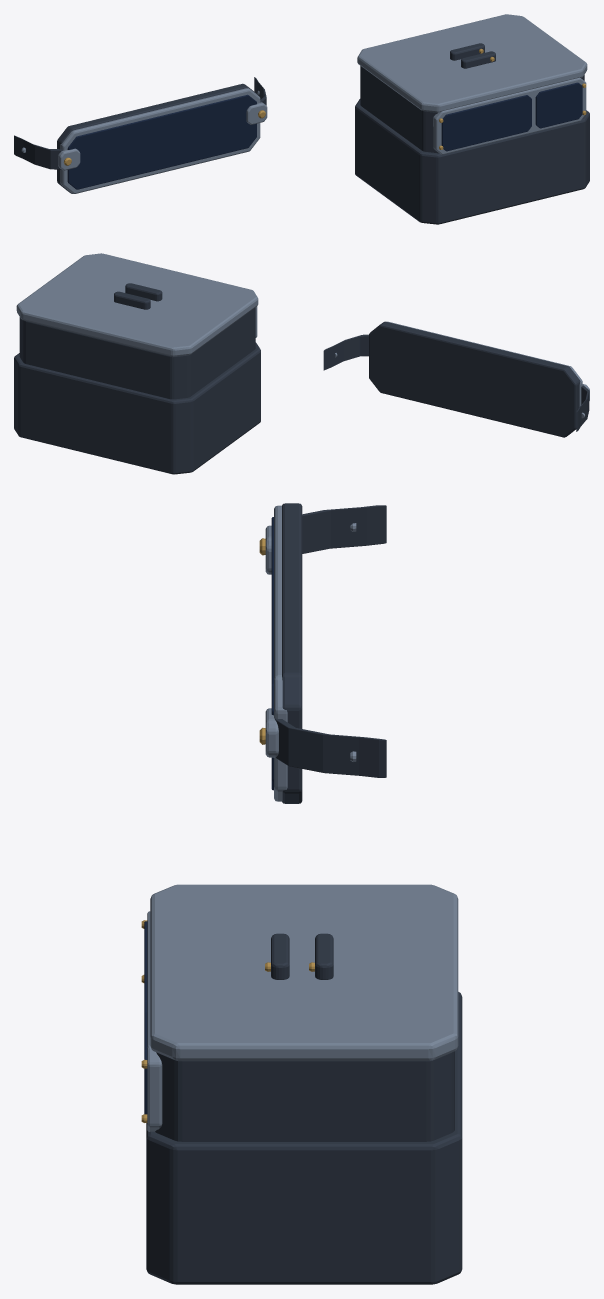
File: winter_industrial_signs_v1.fbx
3 renders of one model, top to bottom at view 1: azimuth 30°, elevation 25°; view 2: azimuth 150°, elevation 25°; view 3: azimuth 270°, elevation 25°, orthographic. The views are drawn at different scales.
Parts seen in each view (by area): view 1: Cash_Iron, Cash_Steel, Melter_Enamel, Melter_Steel, Cash_ProductFace.001, Melter_Iron, Cash_IndicatorFace.001; view 2: Cash_Iron, Melter_Iron, Cash_Steel, Melter_Steel; view 3: Cash_Iron, Cash_Steel, Melter_Iron, Melter_Steel.
Part boxes in pixels (x1,y1,x2,y2): Cash_Iron: (355,43,589,224); Cash_Steel: (357,14,587,154); Melter_Enamel: (67,94,256,189); Melter_Steel: (21,88,267,193); Cash_ProductFace.001: (441,95,531,151); Melter_Iron: (14,77,266,193); Cash_IndicatorFace.001: (535,82,582,128); Cash_Iron: (14,283,260,474); Melter_Iron: (323,321,589,437); Cash_Steel: (16,253,258,356); Melter_Steel: (335,321,589,418); Cash_Iron: (146,933,462,1284); Cash_Steel: (147,884,458,1131); Melter_Iron: (273,503,386,803); Melter_Steel: (265,505,356,801).
Size of the model in its own units: 9.06 by 2.52 by 2.4.
